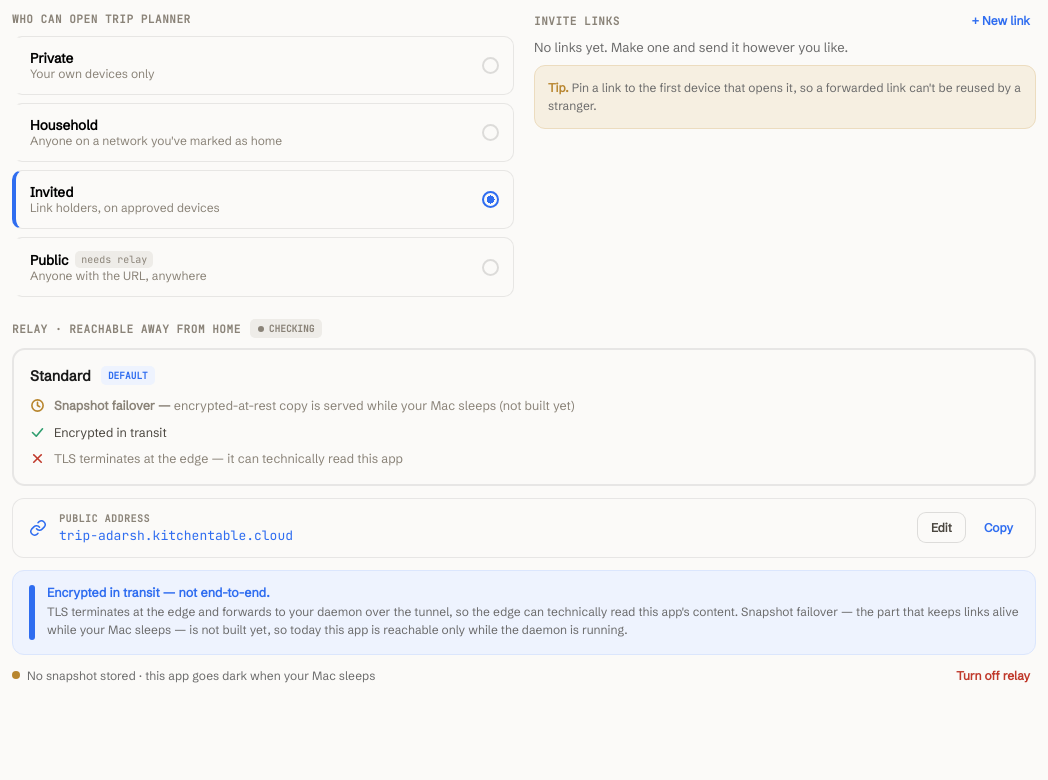
Sharing: the public address › warns that renaming breaks the address people already have
Step 1. Click the button "Edit" → (941, 528), box top-left (917, 512), bottom-right (966, 543)
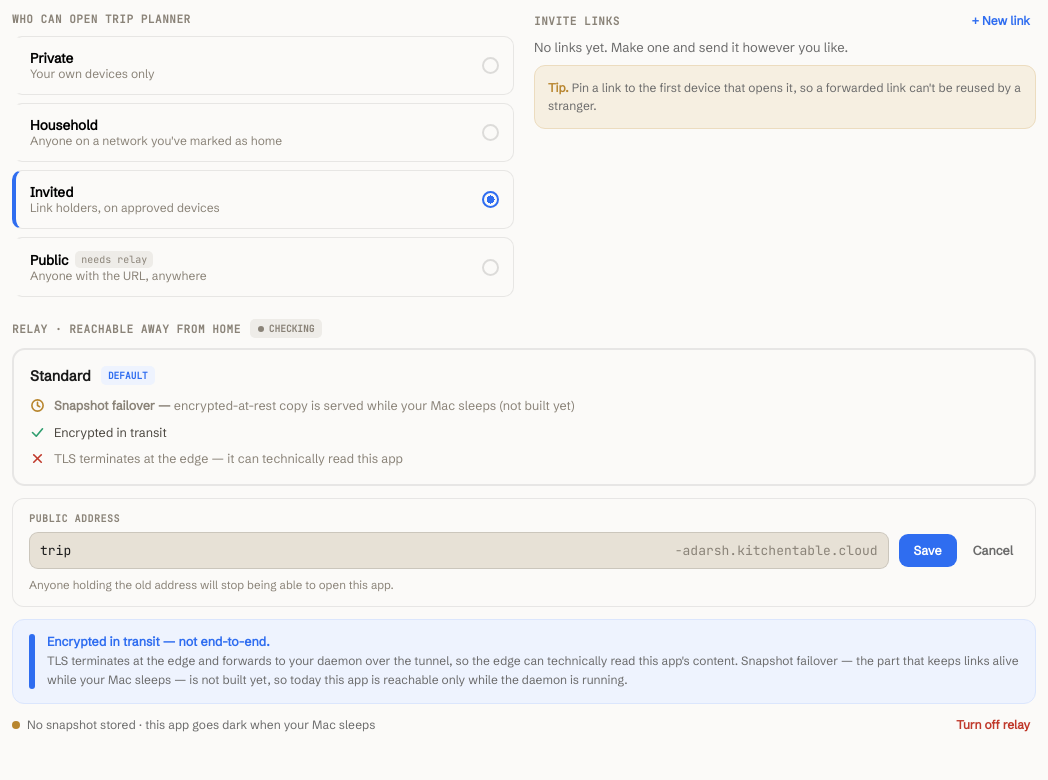
Now the text "stop being able to open this app" is shown, box top-left (29, 578), bottom-right (394, 592)
